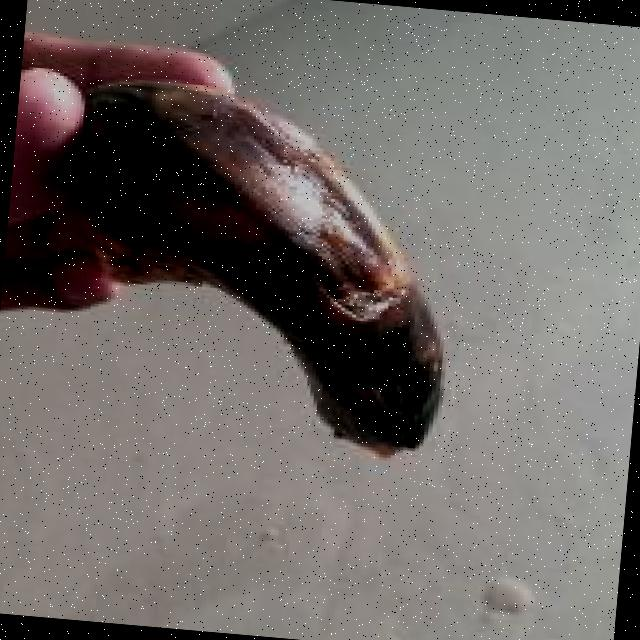Rotten: (9, 35, 496, 523)
